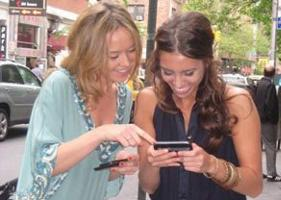person: (136, 12, 263, 200)
